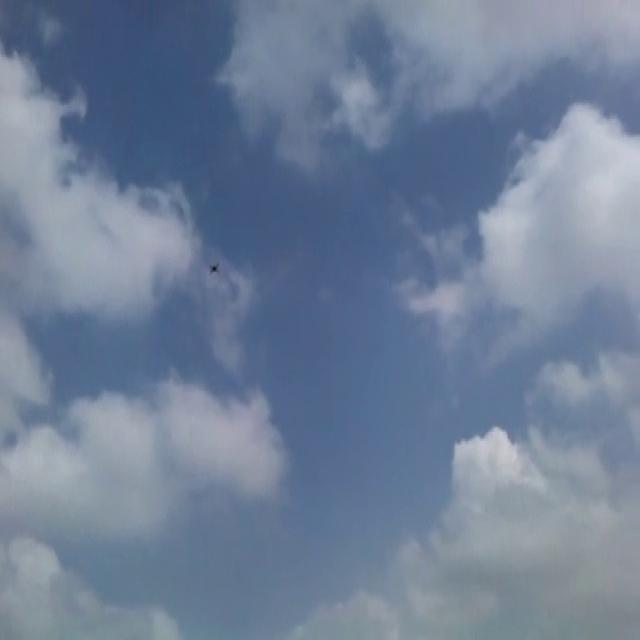drone: (205, 254, 221, 279)
